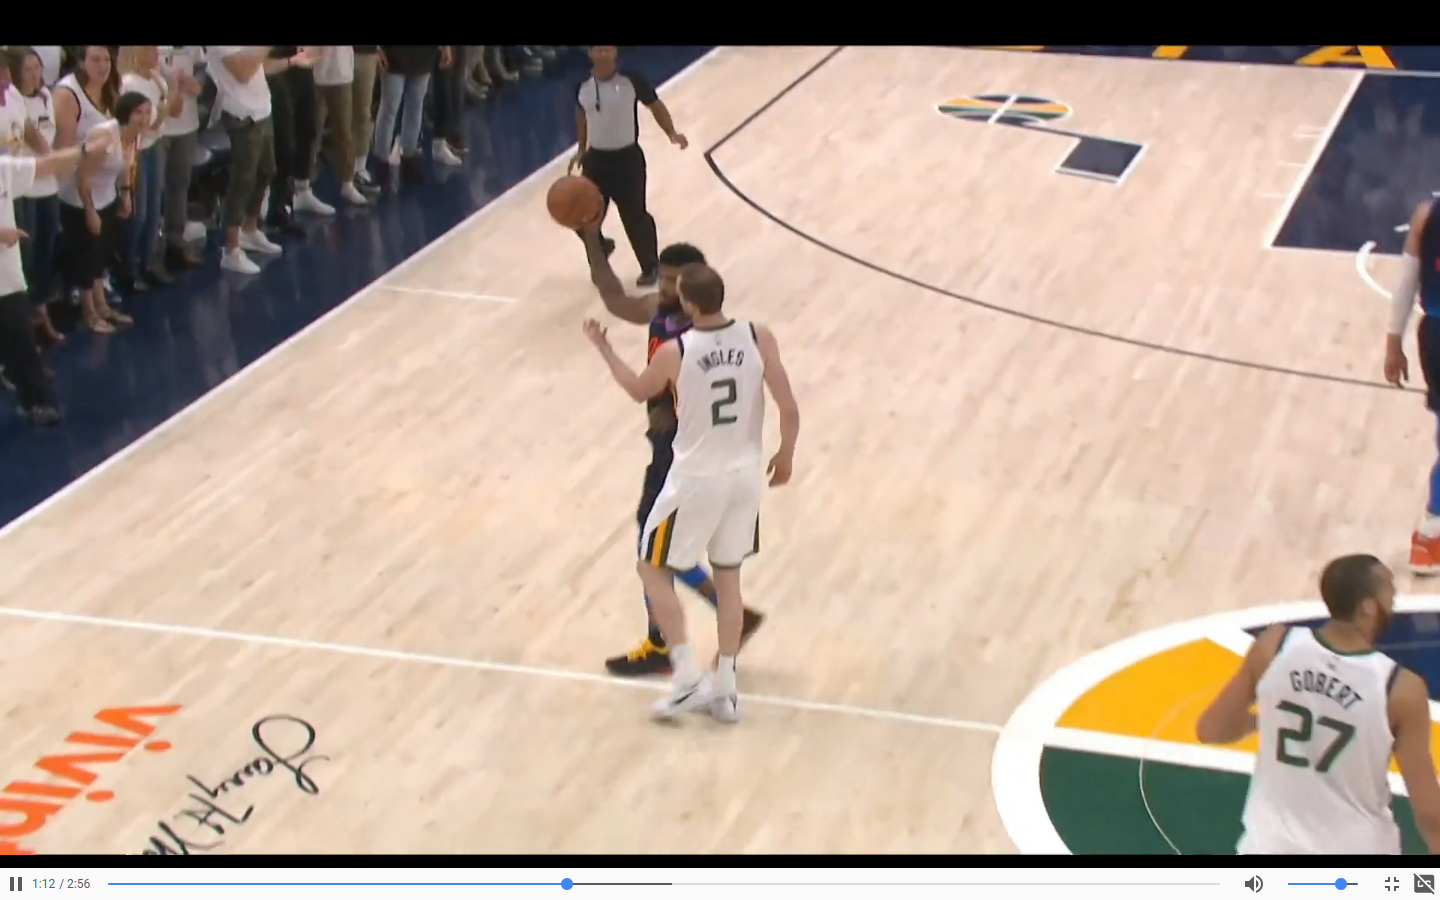basketball: (545, 180, 607, 232)
basketball player: (641, 269, 813, 720), (1188, 552, 1440, 846), (622, 242, 699, 472)
referee: (573, 45, 688, 272)
